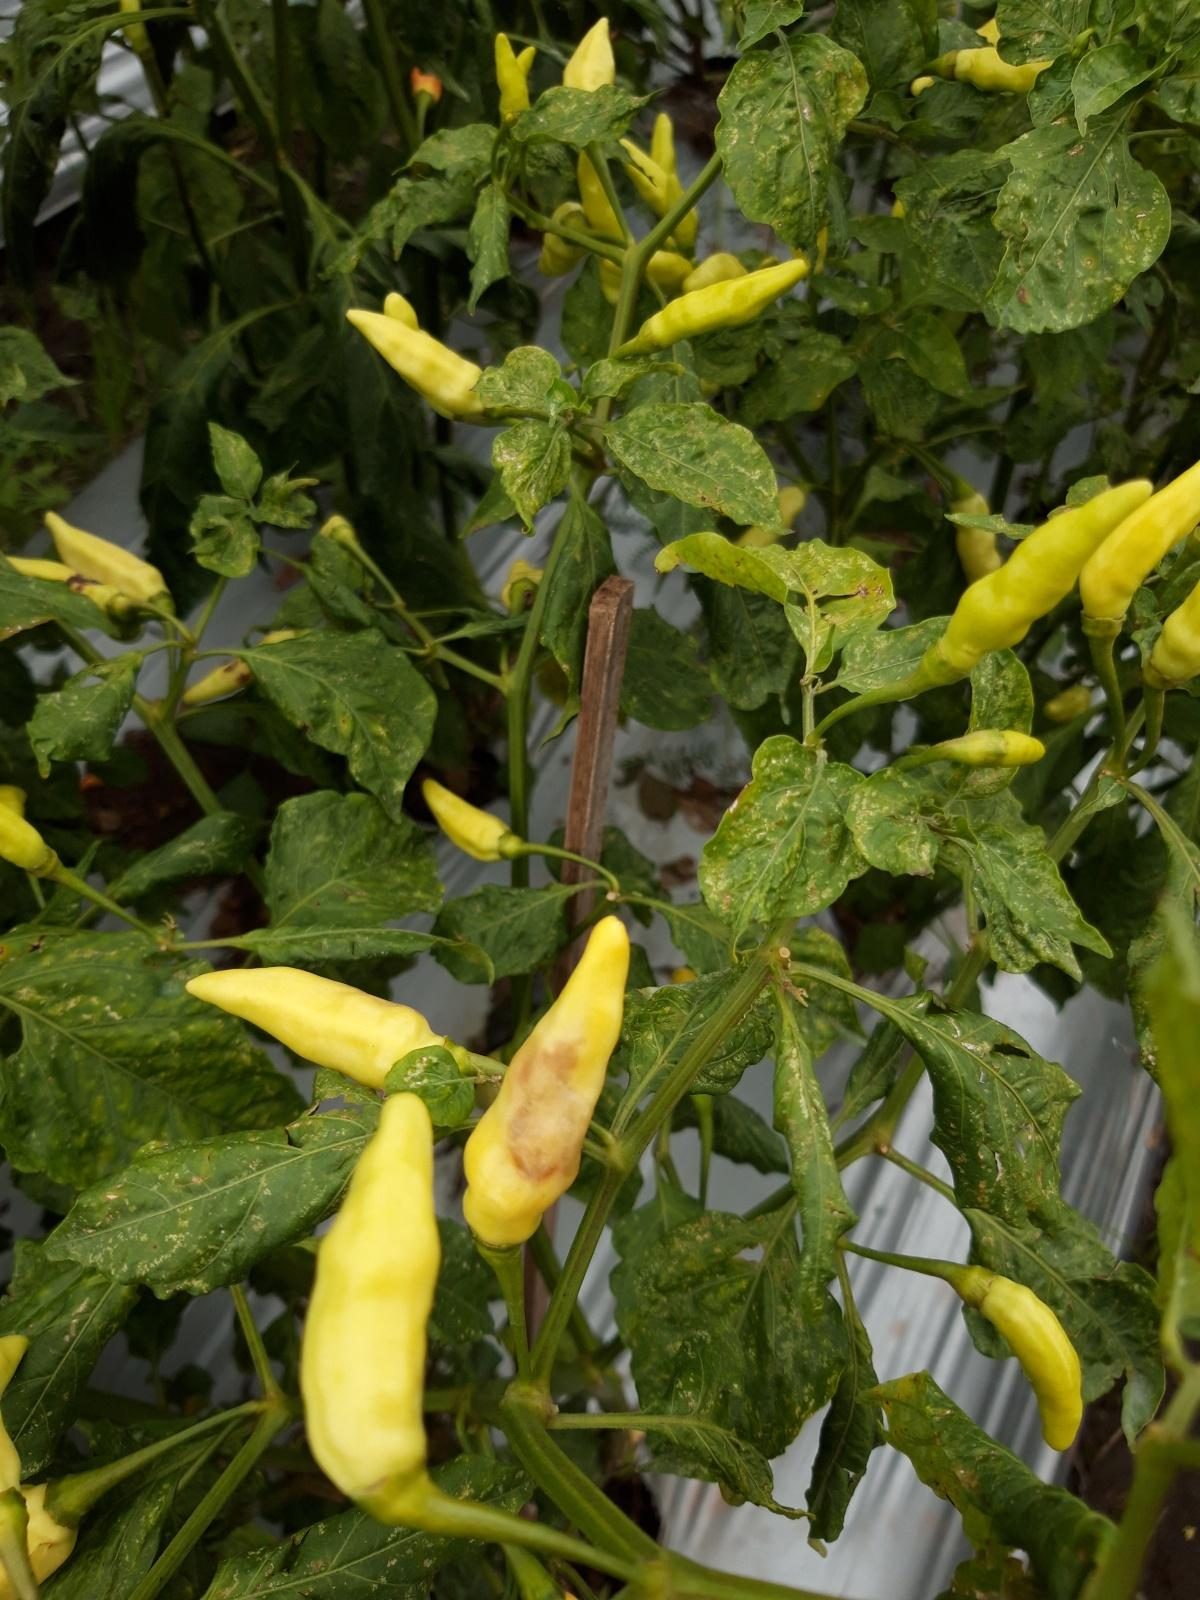cabai_normal: (297, 1091, 442, 1512), (930, 474, 1156, 684), (187, 965, 456, 1101), (955, 1262, 1083, 1453), (345, 307, 493, 423), (642, 258, 811, 348), (44, 509, 174, 617), (422, 779, 521, 864), (560, 15, 618, 117), (493, 33, 532, 152), (971, 727, 1046, 766)
lalat_buah: (461, 913, 630, 1261), (184, 630, 296, 703)
